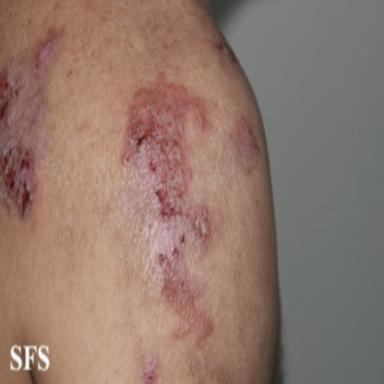Hailey-Hailey-Disease: (121, 73, 211, 339), (0, 27, 65, 223), (229, 116, 259, 173), (210, 27, 243, 72)
